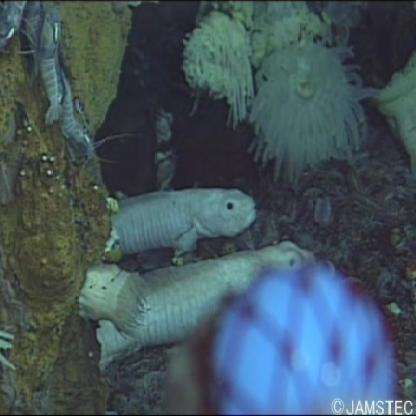Bio: (74, 184, 317, 368), (243, 37, 391, 187), (1, 1, 116, 169)
